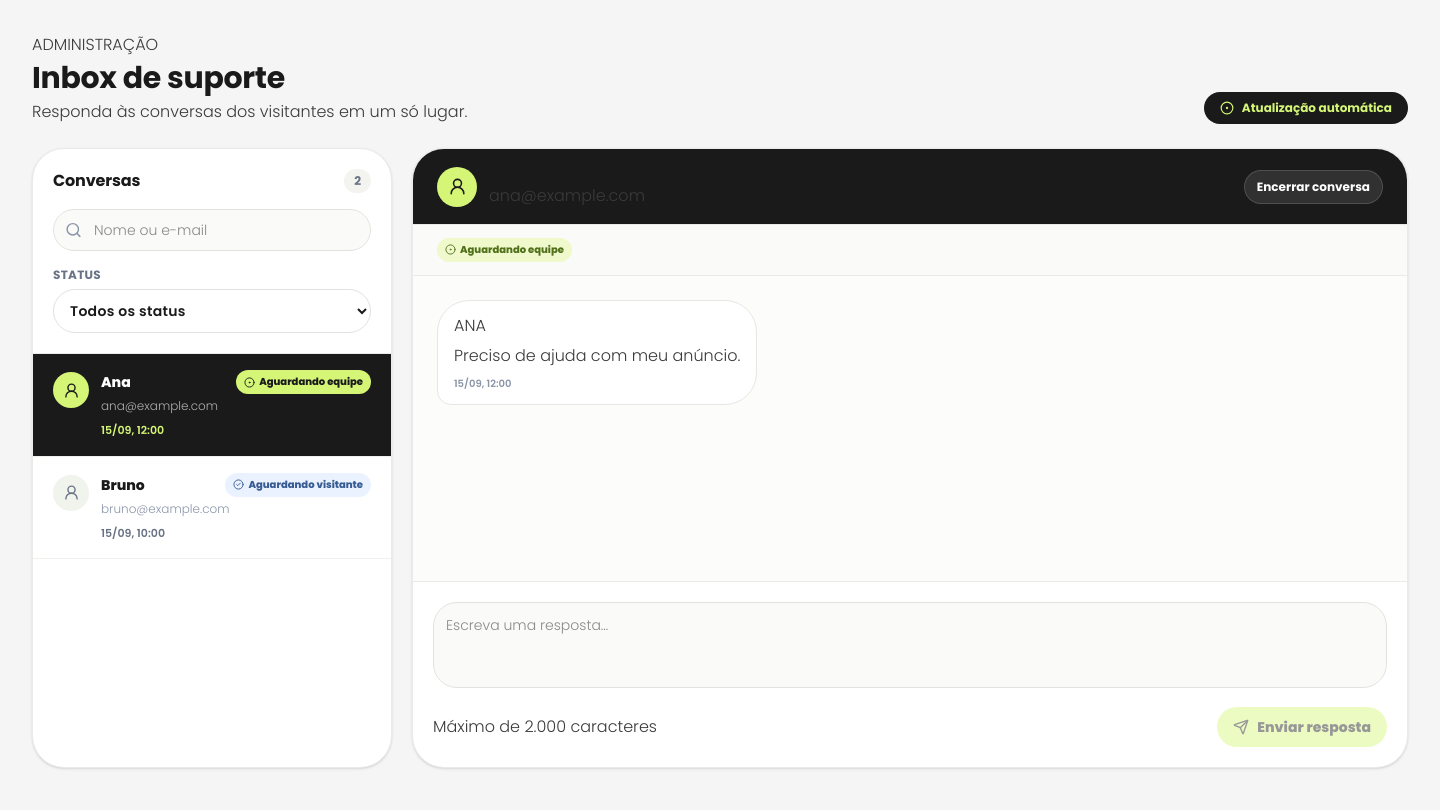
AdminSupportInbox › sends an admin reply and renders it in the conversation
Expected: the text "Preciso de ajuda com meu anúncio." is shown, left=454, top=343, right=740, bottom=368
Type "Olá Ana, vamos ajudar." into the text box labelled "resposta". click: coordinates (910, 645)
box: left=433, top=602, right=1387, bottom=688
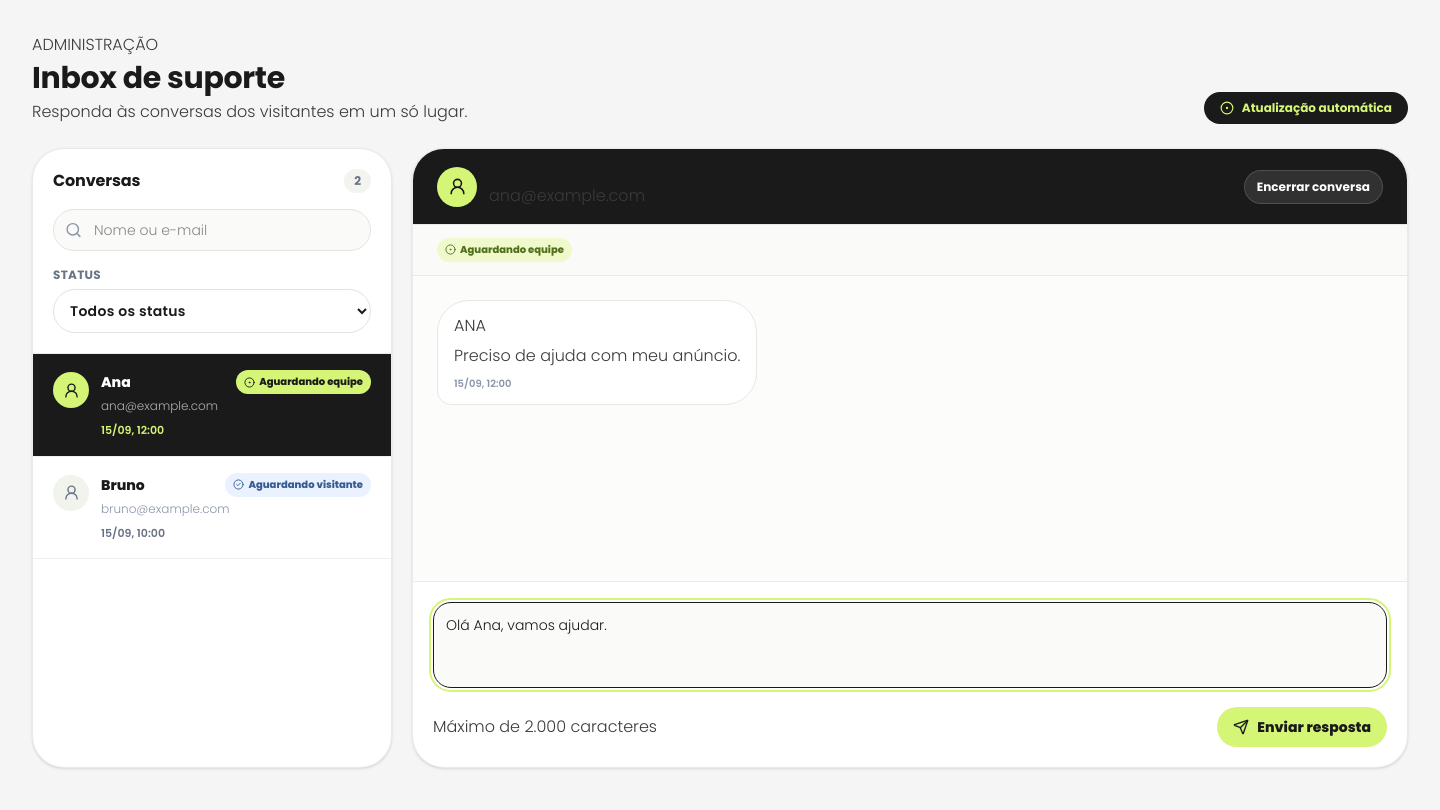
Click the button "Enviar resposta". click: coordinates (1302, 727)
box: left=1217, top=707, right=1387, bottom=747
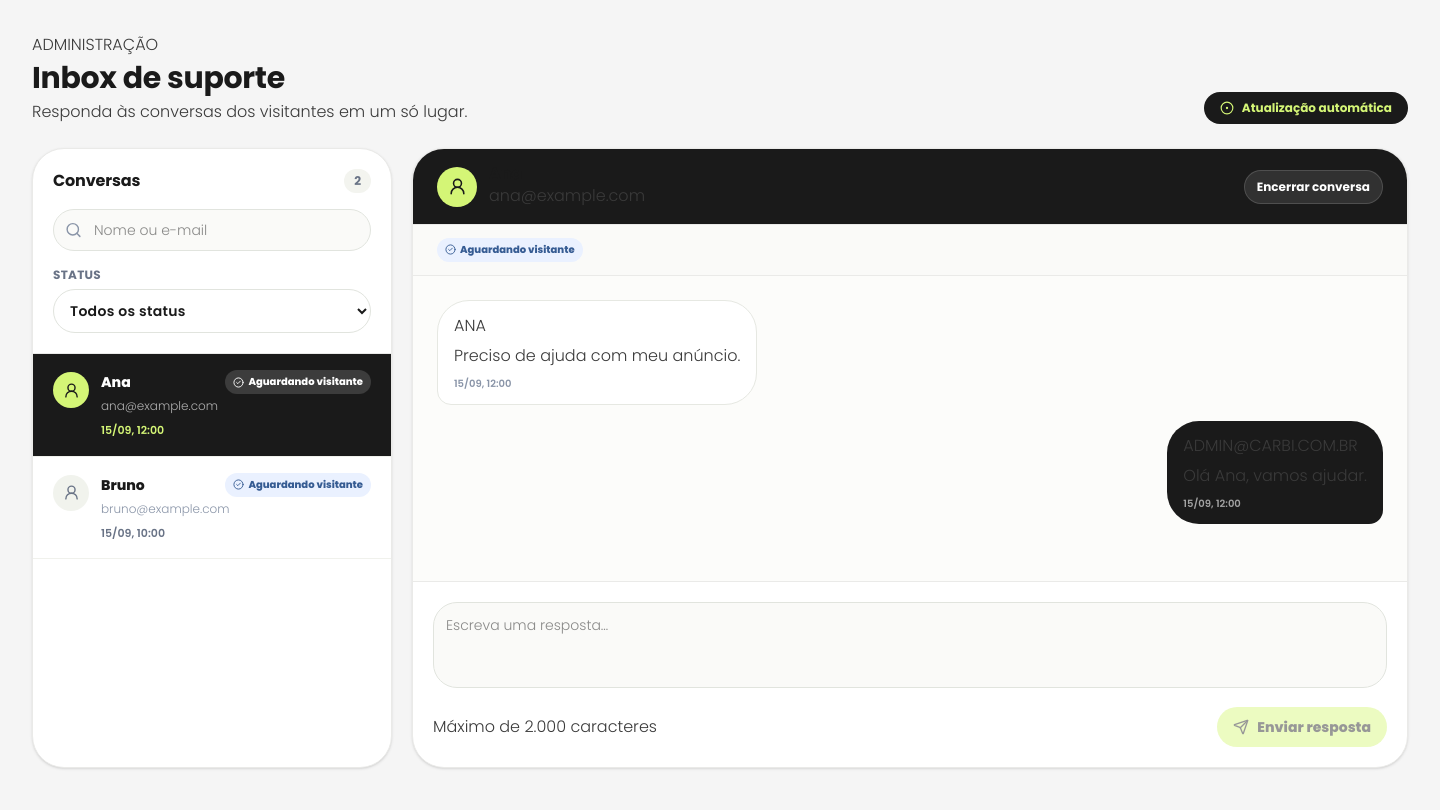
Result: the text "Olá Ana, vamos ajudar." is shown at left=1183, top=463, right=1367, bottom=488
